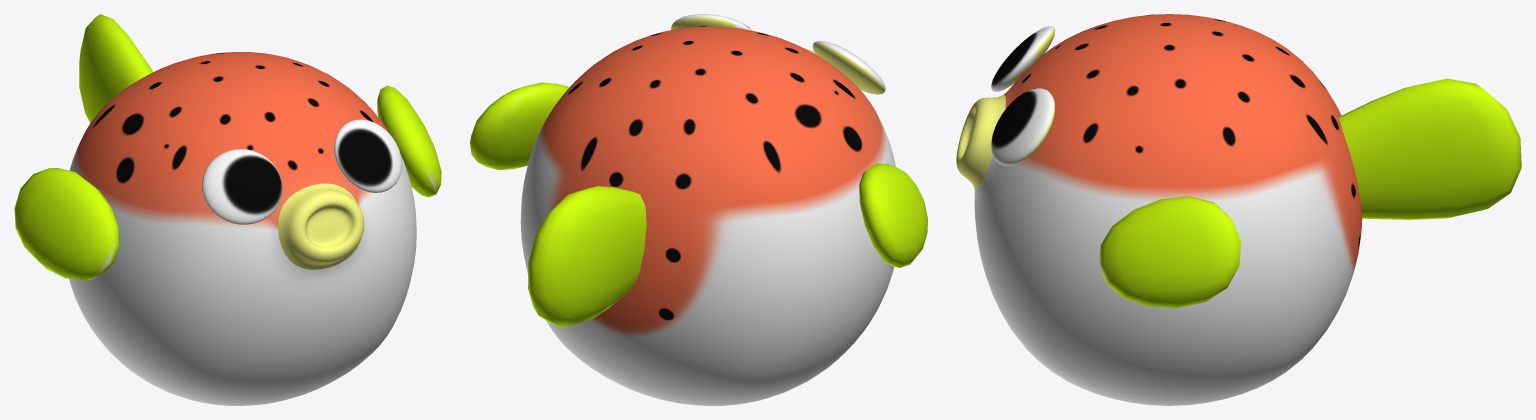
The model's file is fugu.glb.
3 renders of one model, left to right at view 1: azimuth 30°, elevation 25°; view 2: azimuth 150°, elevation 25°; view 3: azimuth 270°, elevation 25°, orthographic. The views are drawn at different scales.
Visible parts, largest first — view 1: Cube, 立方体, 球, 立方体.001; view 2: Cube, 立方体.001, 立方体, 球; view 3: Cube, 立方体.001, 立方体, 球.
Boxes of the visible parts, x1,y1,x2,y2 form: Cube: (69, 52, 416, 405); 立方体: (14, 85, 441, 280); 球: (202, 119, 402, 224); 立方体.001: (79, 14, 152, 122); Cube: (520, 26, 895, 405); 立方体.001: (528, 186, 646, 327); 立方体: (470, 82, 927, 267); 球: (671, 14, 885, 94); Cube: (956, 14, 1362, 405); 立方体.001: (1339, 78, 1521, 219); 立方体: (1098, 196, 1240, 307); 球: (991, 26, 1055, 165).
Bounding box in the file's own units: 2.12 × 1.6 × 2.34.
Materials: 1 (1 with a texture image).
